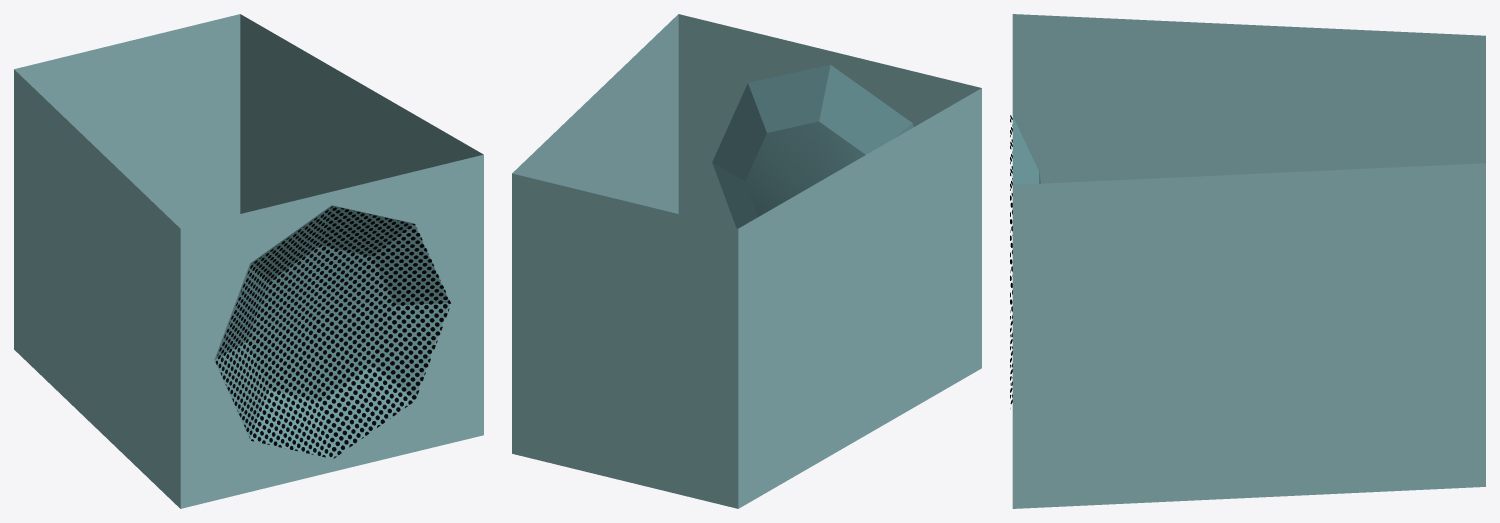
File: Itr_Obj_Speaker3_Middle_06.FBX
3 renders of one model, left to right at view 1: azimuth 30°, elevation 25°; view 2: azimuth 150°, elevation 25°; view 3: azimuth 270°, elevation 25°, orthographic. The views are drawn at different scales.
Visible parts, largest first — view 1: Itr_Obj_Speaker3_Middle_06; view 2: Itr_Obj_Speaker3_Middle_06; view 3: Itr_Obj_Speaker3_Middle_06.
Boxes of the visible parts, x1,y1,x2,y2 form: Itr_Obj_Speaker3_Middle_06: [14, 14, 483, 508]; Itr_Obj_Speaker3_Middle_06: [512, 14, 981, 508]; Itr_Obj_Speaker3_Middle_06: [1010, 14, 1485, 508].
Bounding box in the file's own units: 9.88 × 8.73 × 11.62.
